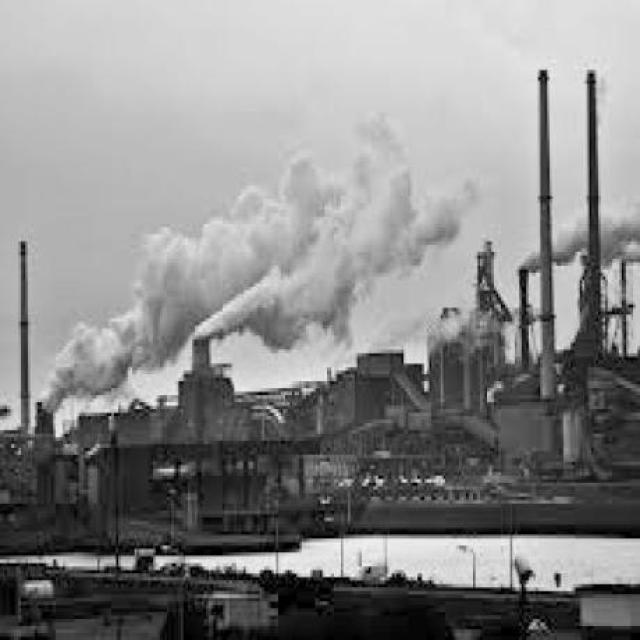Smoke: (4, 119, 454, 388), (486, 208, 640, 278)
